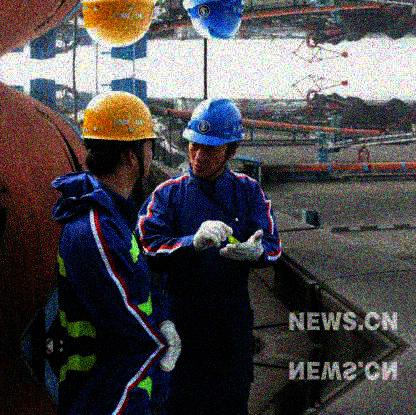helmet: (79, 91, 163, 186), (181, 96, 245, 178)
